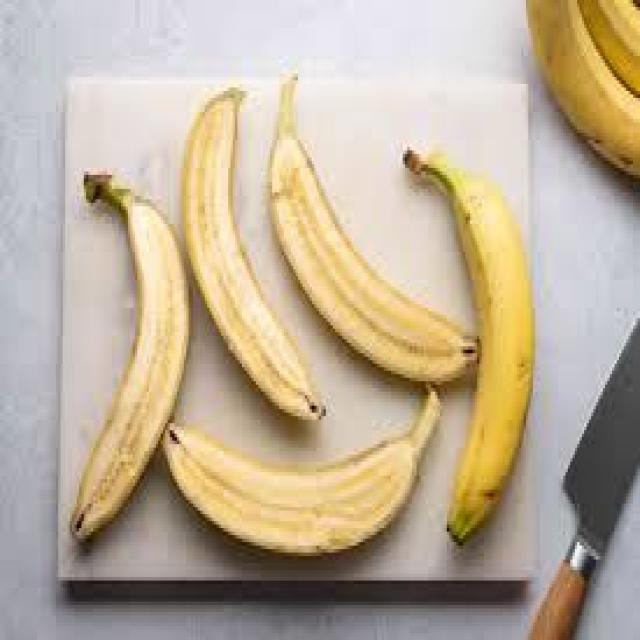banana: (266, 70, 480, 385), (400, 144, 536, 546), (179, 84, 326, 420), (68, 168, 188, 542), (524, 0, 638, 182)
